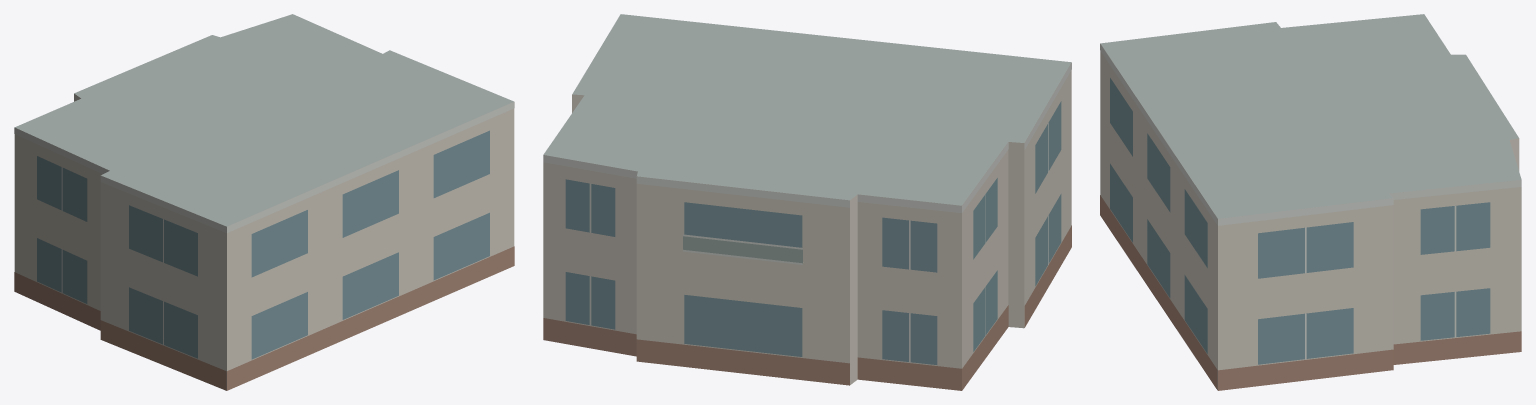
The model's file is survey-upis-32623684.glb.
3 renders of one model, left to right at view 1: azimuth 30°, elevation 25°; view 2: azimuth 150°, elevation 25°; view 3: azimuth 270°, elevation 25°, orthographic. The views are drawn at different scales.
Parts seen in each view (by area): view 1: survey-upis-32623684.tmp; view 2: survey-upis-32623684.tmp; view 3: survey-upis-32623684.tmp.
Part boxes in pixels (x1=…): survey-upis-32623684.tmp: x1=14, y1=14, x2=514, y2=390; survey-upis-32623684.tmp: x1=543, y1=14, x2=1071, y2=390; survey-upis-32623684.tmp: x1=1100, y1=14, x2=1521, y2=390.
Size of the model in its own units: 15.61 by 6.1 by 13.57.
